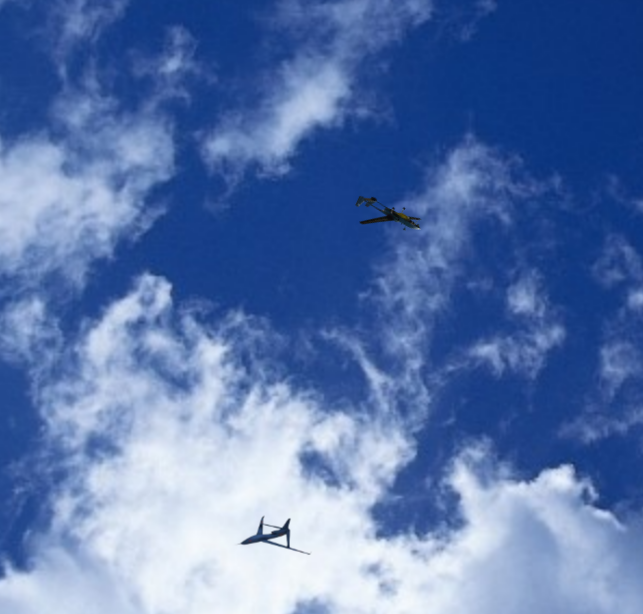military drone: (236, 515, 311, 555), (354, 195, 421, 231)
